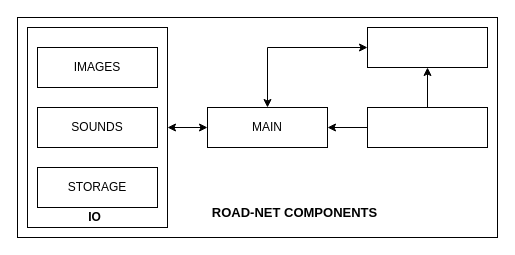
This 515x255 diagram has some shape labels left out. The box of each missing label's shape, as (x1, y1, x2, y2) in pixels:
GRID: (366, 26, 488, 68)
SHARED: (366, 106, 488, 148)
